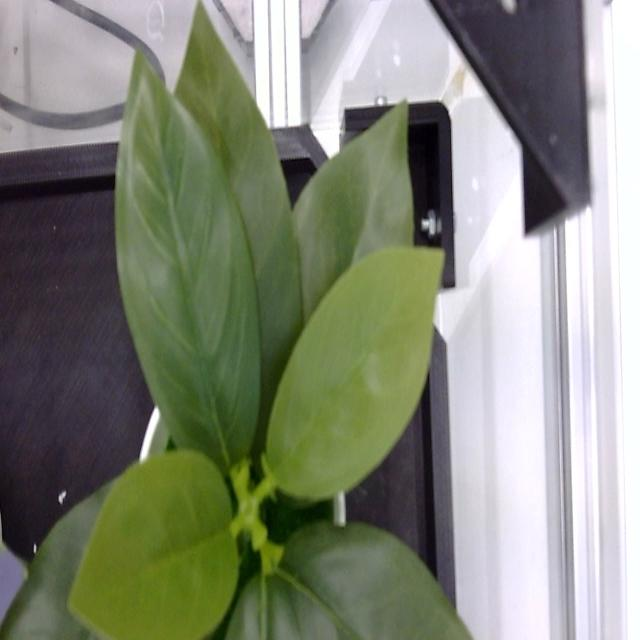Green: (116, 58, 262, 474), (266, 245, 442, 499), (70, 451, 240, 639), (294, 104, 413, 315), (268, 523, 471, 639), (0, 484, 112, 639), (280, 194, 300, 351), (226, 580, 258, 639)
